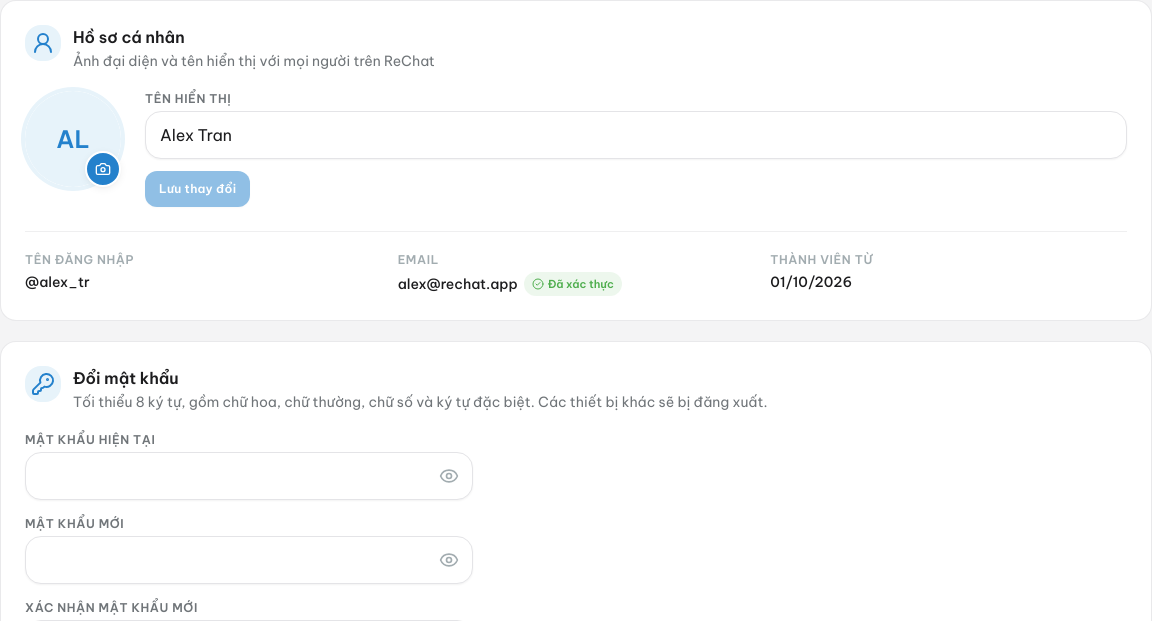
Test: ProfileTab › blocks an empty display name
Clear the field labelled "Tên hiển thị" at (636,135), box [145,111,1127,159]
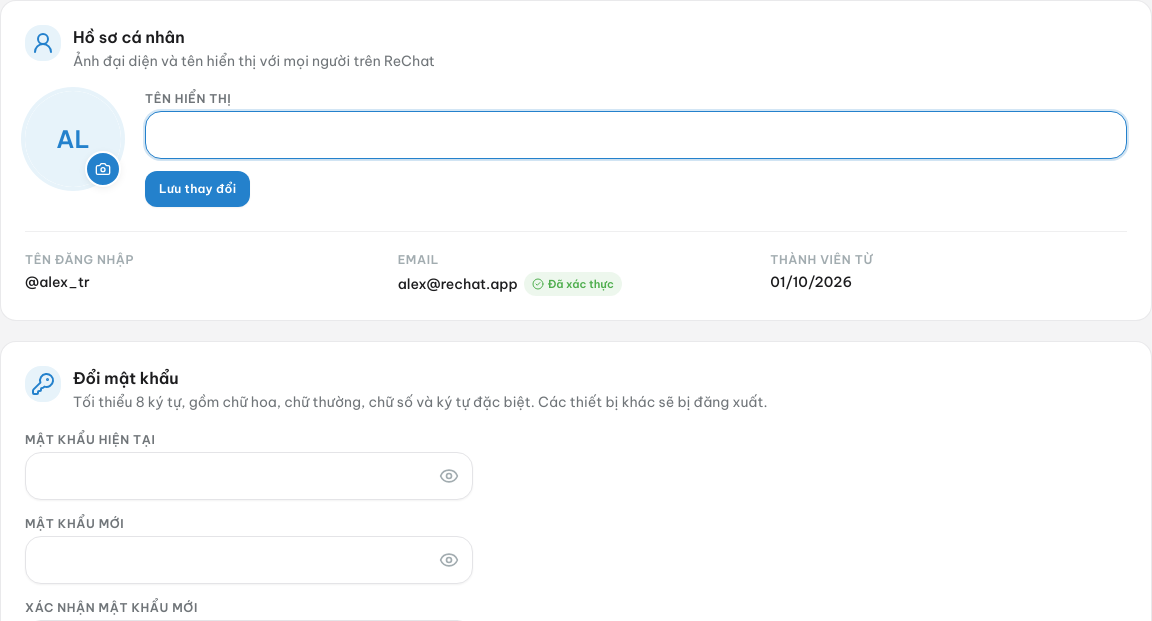
Click the button "Lưu thay đổi" at (198,189), box [145,171,250,207]
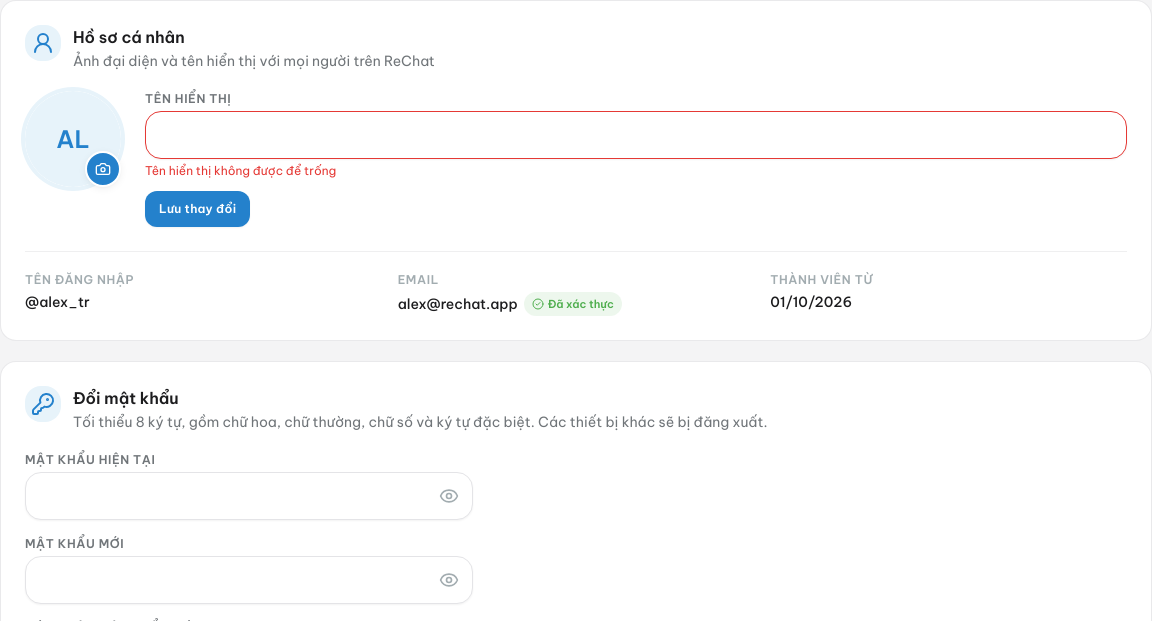
Now the text "Tên hiển thị không được để trống" is shown, box [145,163,336,178]
